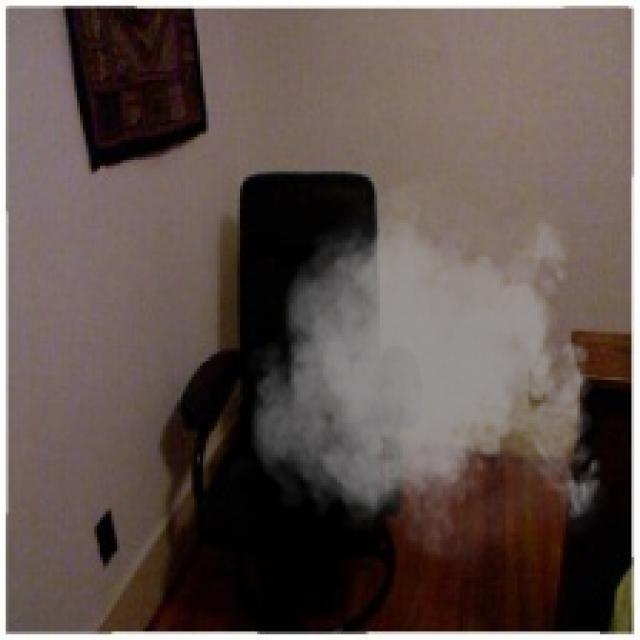Smoke: (246, 160, 612, 580)
